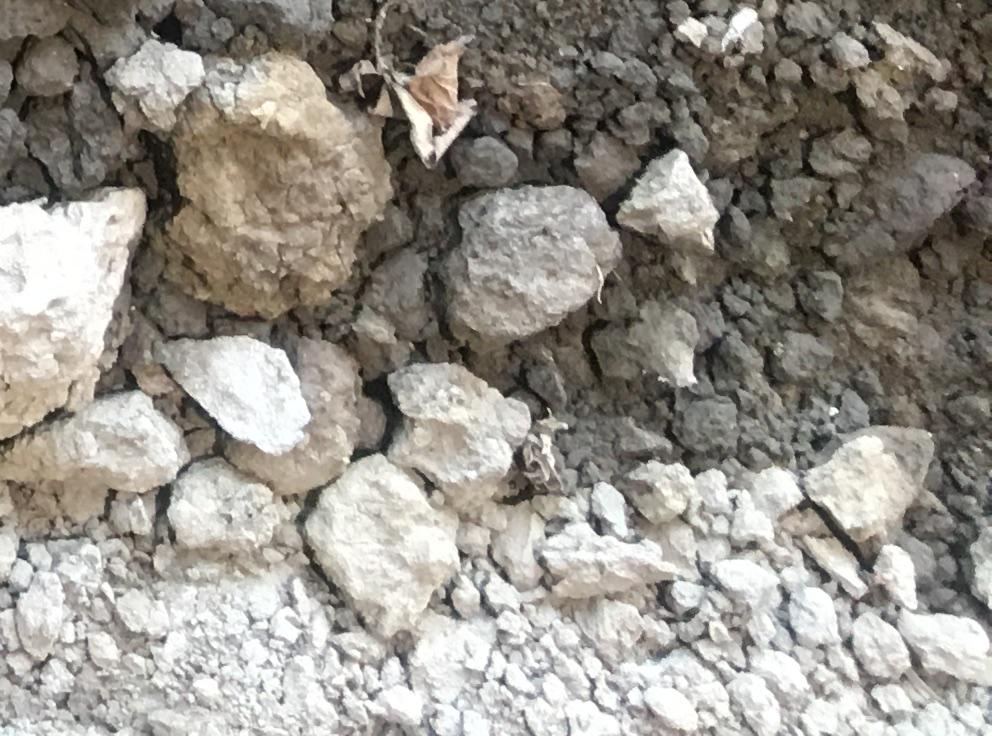block: (153, 45, 390, 320), (1, 180, 137, 443), (147, 329, 355, 496), (437, 183, 622, 353), (302, 450, 452, 638), (371, 355, 533, 507)
